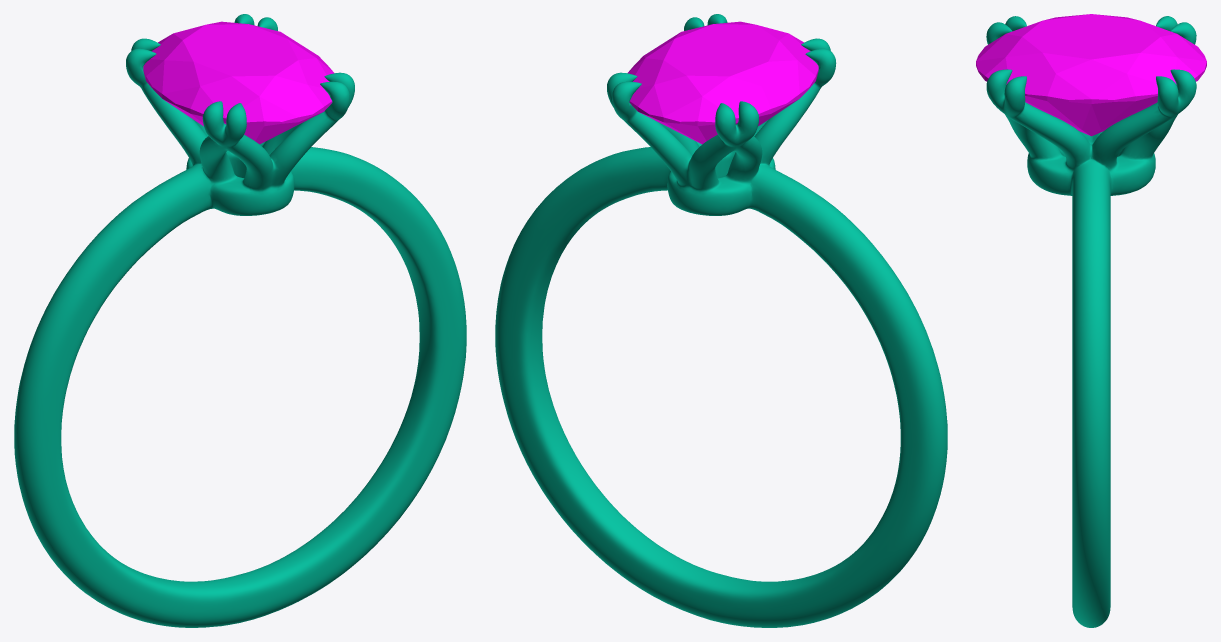
File: BE1389_OV_200ct_RENDER.glb
3 renders of one model, left to right at view 1: azimuth 30°, elevation 25°; view 2: azimuth 150°, elevation 25°; view 3: azimuth 270°, elevation 25°, orthographic.
Visible parts, largest first — view 1: Metal 01, CS_Diamond_Oval; view 2: Metal 01, CS_Diamond_Oval; view 3: Metal 01, CS_Diamond_Oval.
Part boxes in pixels (bbox=[...]): Metal 01: bbox=[14, 14, 466, 627]; CS_Diamond_Oval: bbox=[143, 21, 334, 144]; Metal 01: bbox=[495, 14, 947, 627]; CS_Diamond_Oval: bbox=[627, 21, 818, 144]; Metal 01: bbox=[986, 16, 1196, 627]; CS_Diamond_Oval: bbox=[976, 14, 1206, 136].
Size of the model in its own units: 20.06 by 24.41 by 9.
